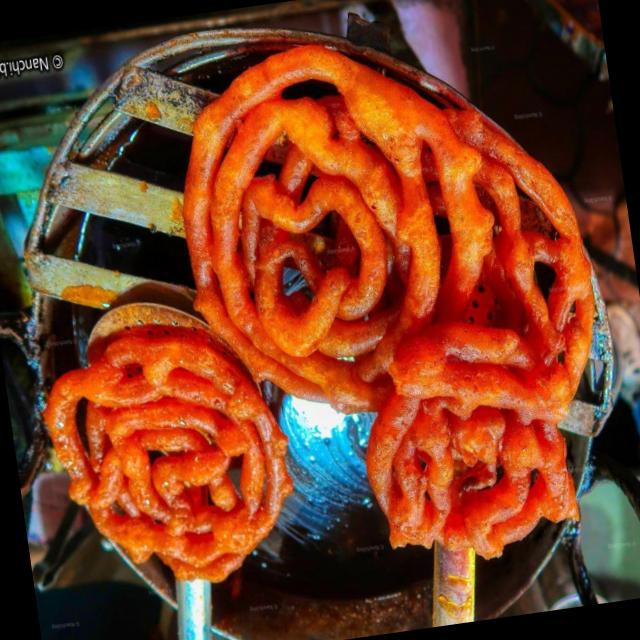jalebi: (0, 33, 624, 626)
